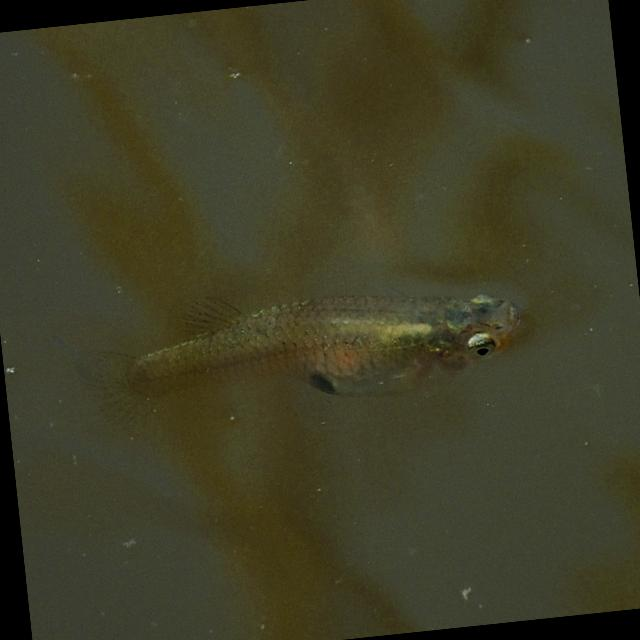Sivrisinek Baligi: (51, 256, 530, 438)
